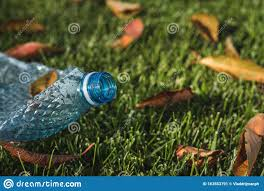plastic_bottle: (1, 52, 116, 143)
